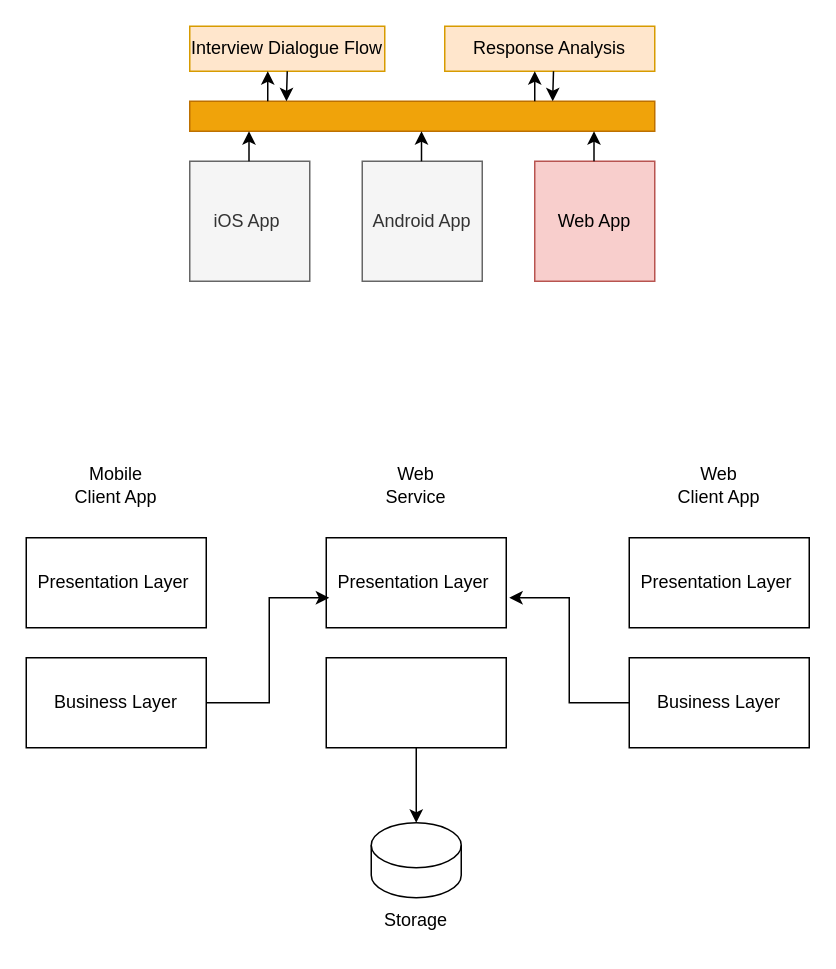
This 836x969 diagram has some shape labels left out. Here are the shapes that lost their labels. From the top down, the centre of each, then its label:
the point at 421,115: Restful Web Service
the point at 415,702: Data Layer
